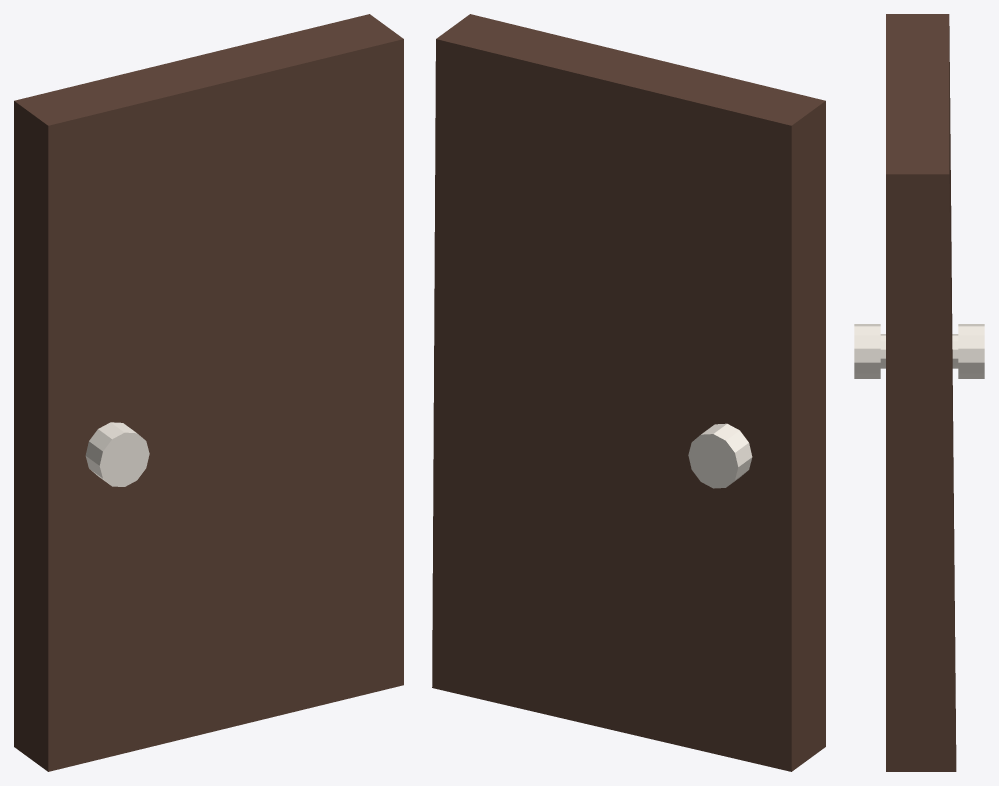
The model's file is Door_R.fbx.
The picture shows the model from 3 angles, left to right: view 1: azimuth 30°, elevation 25°; view 2: azimuth 150°, elevation 25°; view 3: azimuth 270°, elevation 25°; orthographic projection. The views are drawn at different scales.
Parts seen in each view (by area): view 1: Door.002; view 2: Door.002; view 3: Door.002.
Part boxes in pixels (x1,y1,x2,y2): Door.002: [14, 14, 403, 771]; Door.002: [432, 14, 825, 771]; Door.002: [854, 14, 984, 771].
Size of the model in its own units: 150 by 260 by 51.39.
